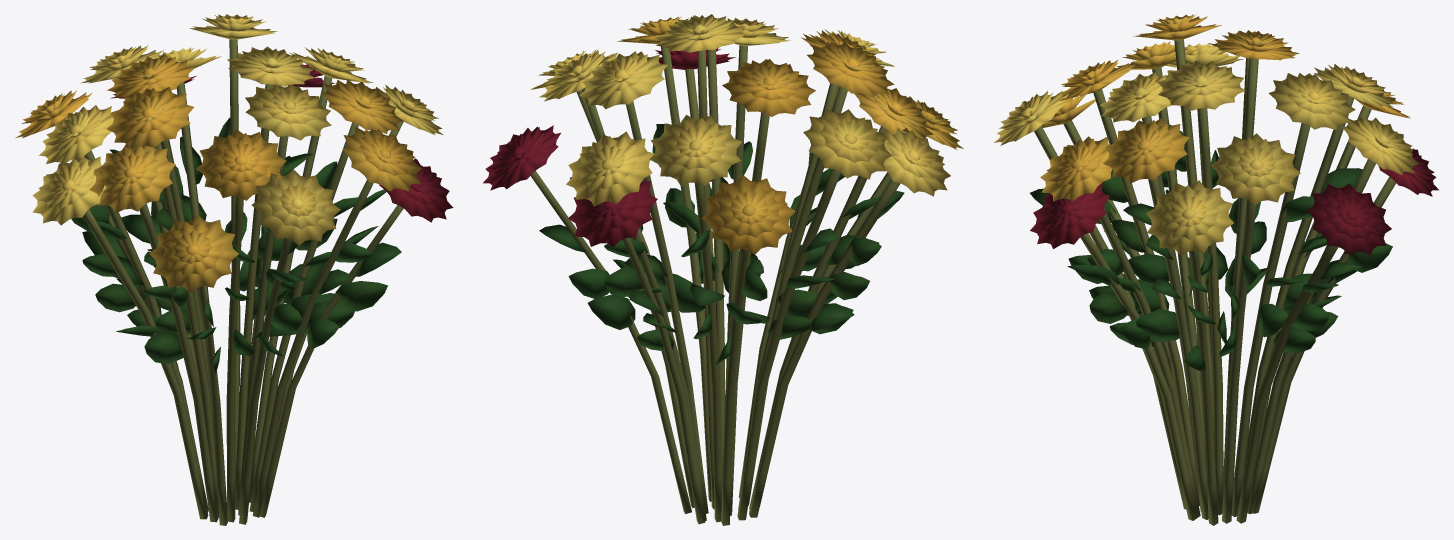
Rendered from bucket_mums.glb.
The picture shows the model from 3 angles, left to right: view 1: azimuth 30°, elevation 25°; view 2: azimuth 150°, elevation 25°; view 3: azimuth 270°, elevation 25°; orthographic projection. The views are drawn at different scales.
Visible parts, largest first — view 1: Sammel Pflanze, Sammel Putz; view 2: Sammel Pflanze, Sammel Putz; view 3: Sammel Pflanze, Sammel Putz.
Part boxes in pixels (x1,y1,x2,y2): Sammel Pflanze: [15, 14, 453, 374]; Sammel Putz: [75, 39, 403, 525]; Sammel Pflanze: [483, 14, 963, 365]; Sammel Putz: [530, 45, 900, 525]; Sammel Pflanze: [994, 14, 1438, 370]; Sammel Putz: [1034, 39, 1395, 525].
Bounding box in the file's own units: 0.3976 × 0.4398 × 0.3913.
